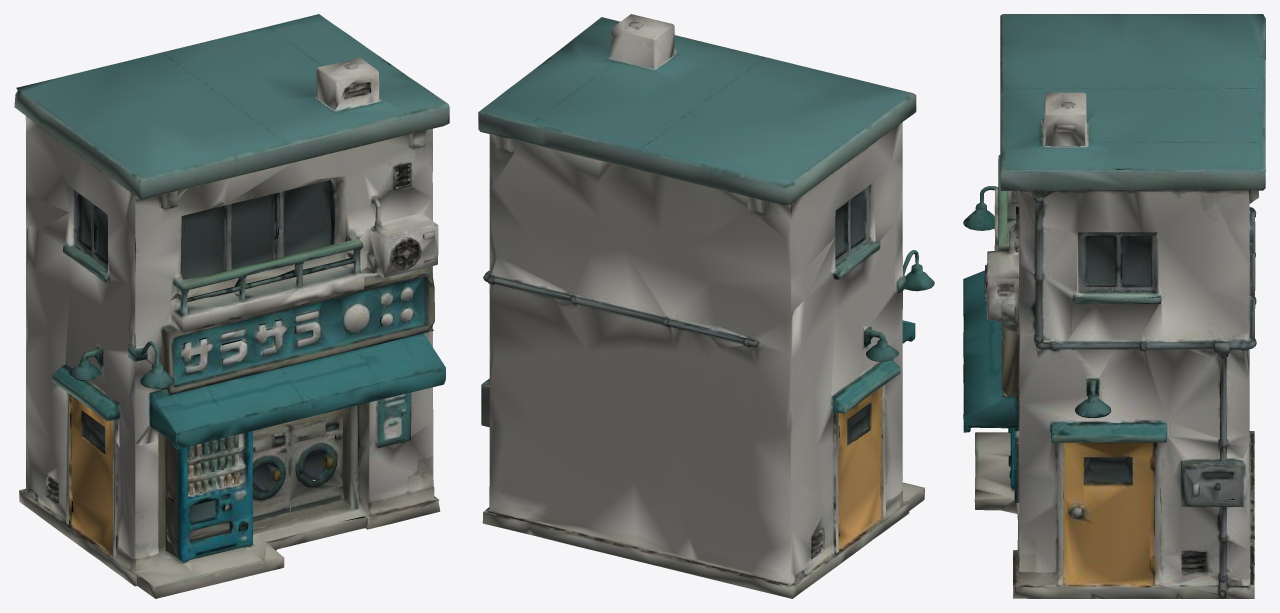
Rendered from building1v2.glb.
3 views of the same model, side by side, from view 1: azimuth 30°, elevation 25°; view 2: azimuth 150°, elevation 25°; view 3: azimuth 270°, elevation 25° (orthographic). The views are drawn at different scales.
Parts seen in each view (by area): view 1: lo; view 2: lo; view 3: lo.
Boxes of the visible parts, x1,y1,x2,y2 form: lo: (14, 14, 449, 598); lo: (478, 14, 934, 598); lo: (963, 14, 1265, 598).
Bounding box in the file's own units: 0.8473 × 0.9997 × 0.5921.
Materials: 1 (1 with a texture image).
